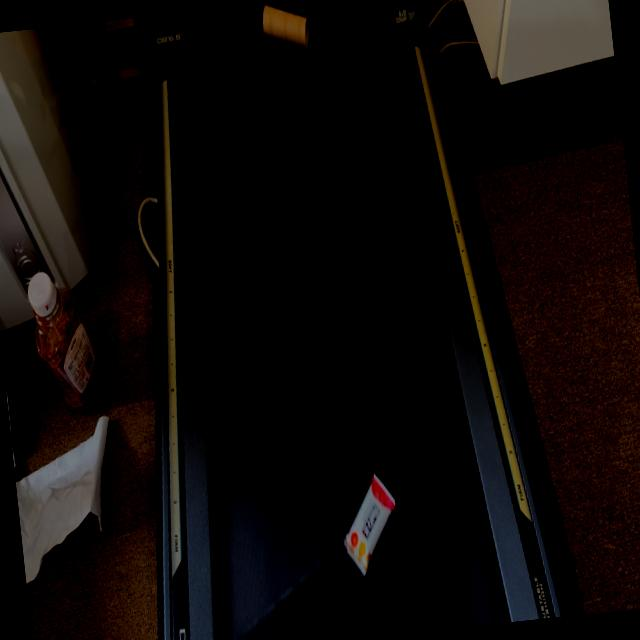Recycle: (334, 469, 405, 582)
